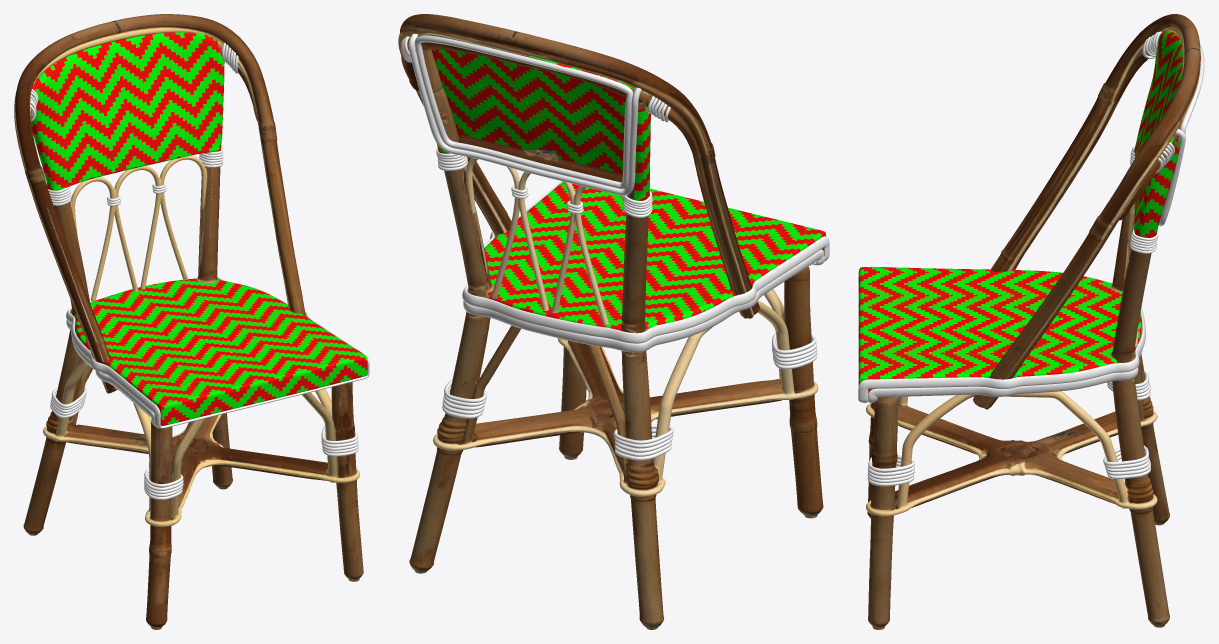
File: tradition-chevron.glb
3 renders of one model, left to right at view 1: azimuth 30°, elevation 25°; view 2: azimuth 150°, elevation 25°; view 3: azimuth 270°, elevation 25°, orthographic. The views are drawn at different scales.
Parts seen in each view (by area): view 1: mesh_tressage, mesh_structure, mesh_laniere; view 2: mesh_structure, mesh_tressage, mesh_laniere; view 3: mesh_structure, mesh_tressage, mesh_laniere.
Boxes of the visible parts, bbox=[...] form: mesh_tressage: bbox=[31, 32, 367, 425]; mesh_structure: bbox=[14, 14, 363, 629]; mesh_laniere: bbox=[30, 42, 369, 499]; mesh_structure: bbox=[398, 14, 823, 629]; mesh_tressage: bbox=[407, 34, 825, 330]; mesh_laniere: bbox=[401, 33, 829, 460]; mesh_structure: bbox=[866, 14, 1200, 629]; mesh_tressage: bbox=[858, 31, 1200, 392]; mesh_laniere: bbox=[858, 31, 1204, 486].
Size of the model in its own units: 0.4826 by 0.9002 by 0.5359.
3 materials, 2 textured.
